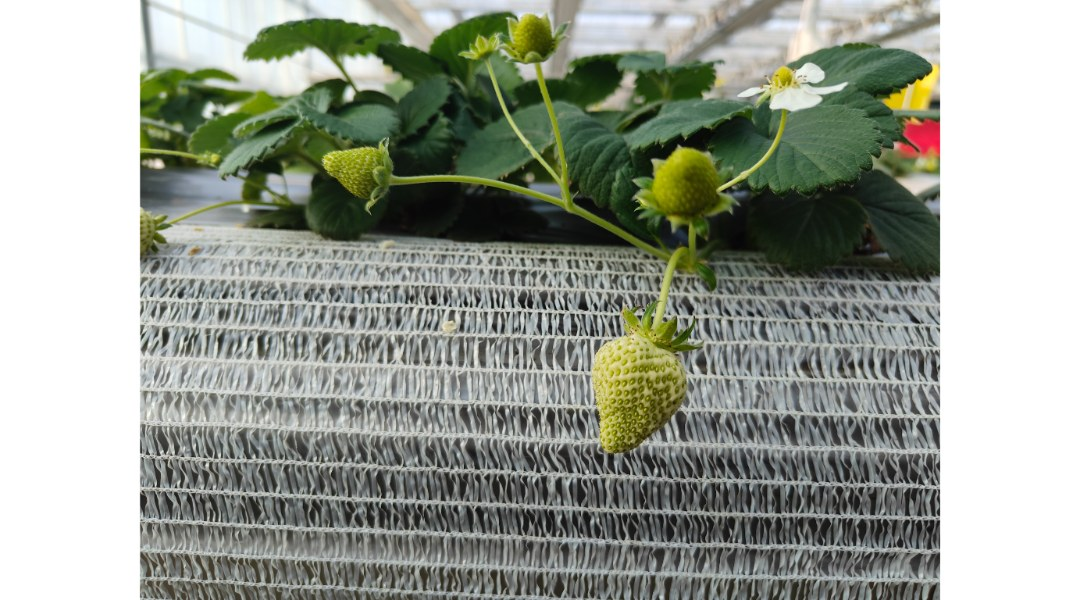berry: (581, 307, 693, 456), (624, 132, 732, 234), (315, 123, 401, 211), (502, 1, 571, 67), (452, 34, 510, 71)
flower: (734, 61, 838, 112)
strain: (576, 202, 660, 262), (529, 62, 571, 180), (390, 167, 548, 196), (493, 77, 542, 167), (723, 124, 783, 188), (653, 244, 683, 302)
